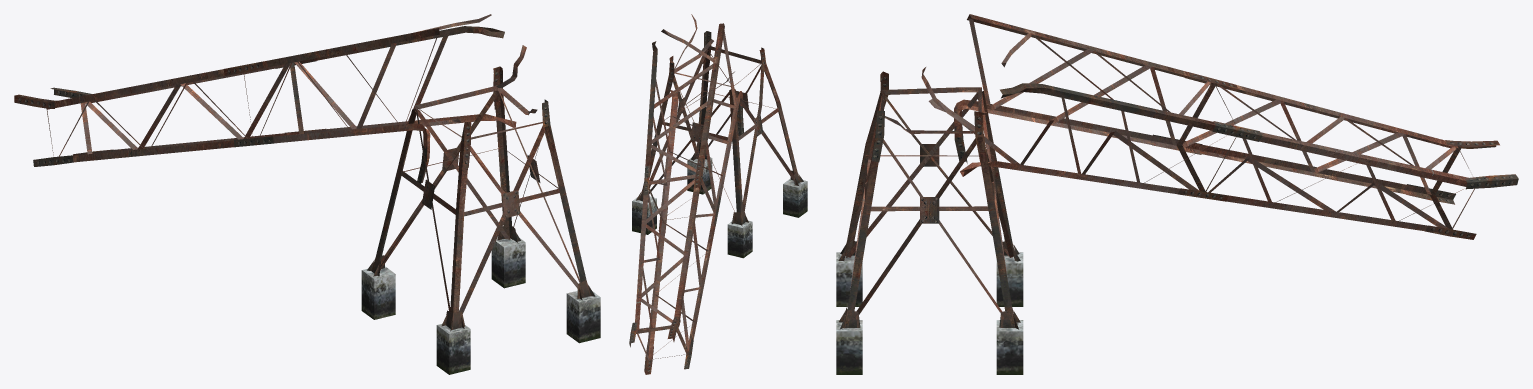
File: elect_broken.FBX
3 renders of one model, left to right at view 1: azimuth 30°, elevation 25°; view 2: azimuth 150°, elevation 25°; view 3: azimuth 270°, elevation 25°, orthographic. The views are drawn at different scales.
Parts seen in each view (by area): view 1: oporaLEP; view 2: oporaLEP; view 3: oporaLEP.
Part boxes in pixels (box(x1,y1,x2,y2)): oporaLEP: box(14, 14, 600, 374); oporaLEP: box(629, 14, 807, 374); oporaLEP: box(836, 14, 1518, 374).
Bounding box in the file's own units: 281 × 278 × 557.
